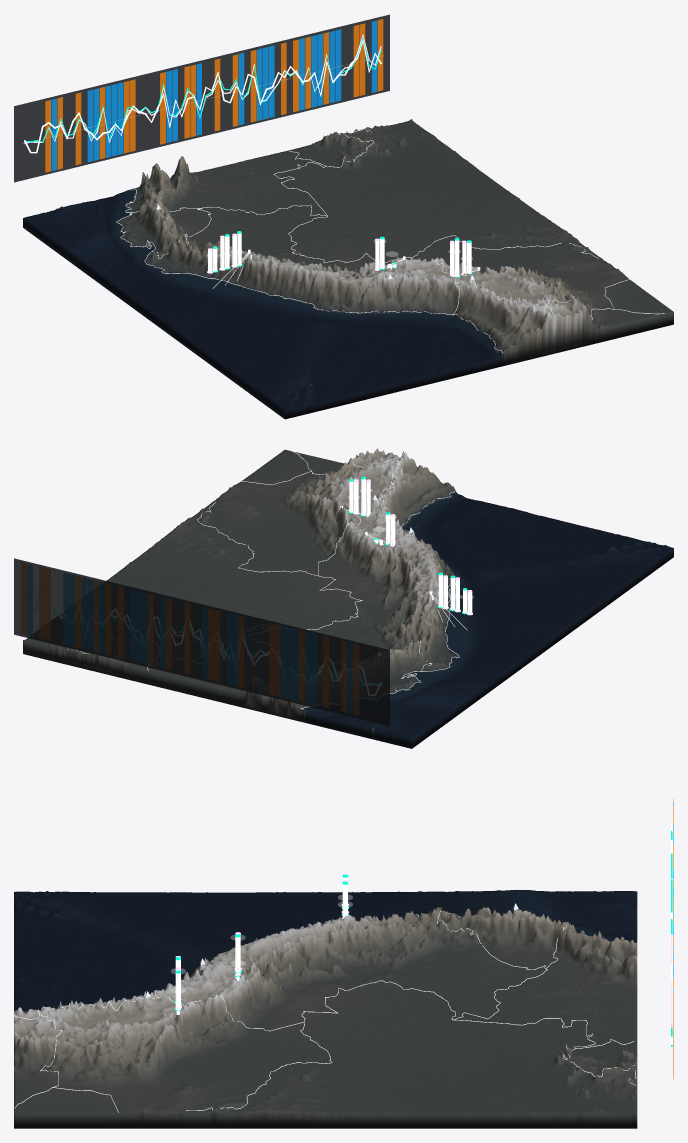
Rendered from andes_enso.glb.
3 views of the same model, one above another, from view 1: azimuth 30°, elevation 25°; view 2: azimuth 150°, elevation 25°; view 3: azimuth 270°, elevation 25° (orthographic). The views are drawn at different scales.
Visible parts, largest first — view 1: Terrain, WallPanel, Borders, WallProxy, WallONI, WallRONI; view 2: Terrain, WallPanel, Borders; view 3: Terrain, Borders.
Boxes of the visible parts, box(x1,y1,x2,y2) form: Terrain: box(23, 119, 673, 419); WallPanel: box(14, 14, 389, 182); Borders: box(116, 128, 664, 353); WallProxy: box(24, 40, 381, 153); WallONI: box(24, 34, 381, 143); WallRONI: box(26, 38, 381, 142); Terrain: box(23, 448, 673, 748); WallPanel: box(14, 558, 389, 726); Borders: box(68, 451, 459, 709); Terrain: box(14, 890, 637, 1128); Borders: box(14, 911, 636, 1112).
Size of the model in its own units: 24 by 6.4 by 29.65.
